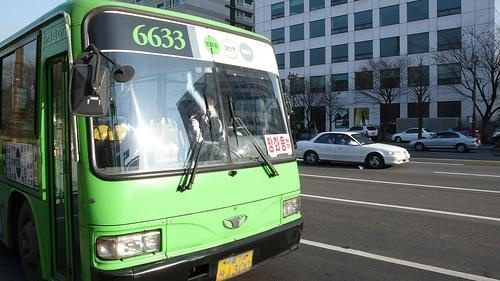bus: (1, 3, 305, 281)
car: (295, 130, 410, 169), (410, 129, 482, 154), (389, 127, 435, 145), (351, 124, 380, 138)
